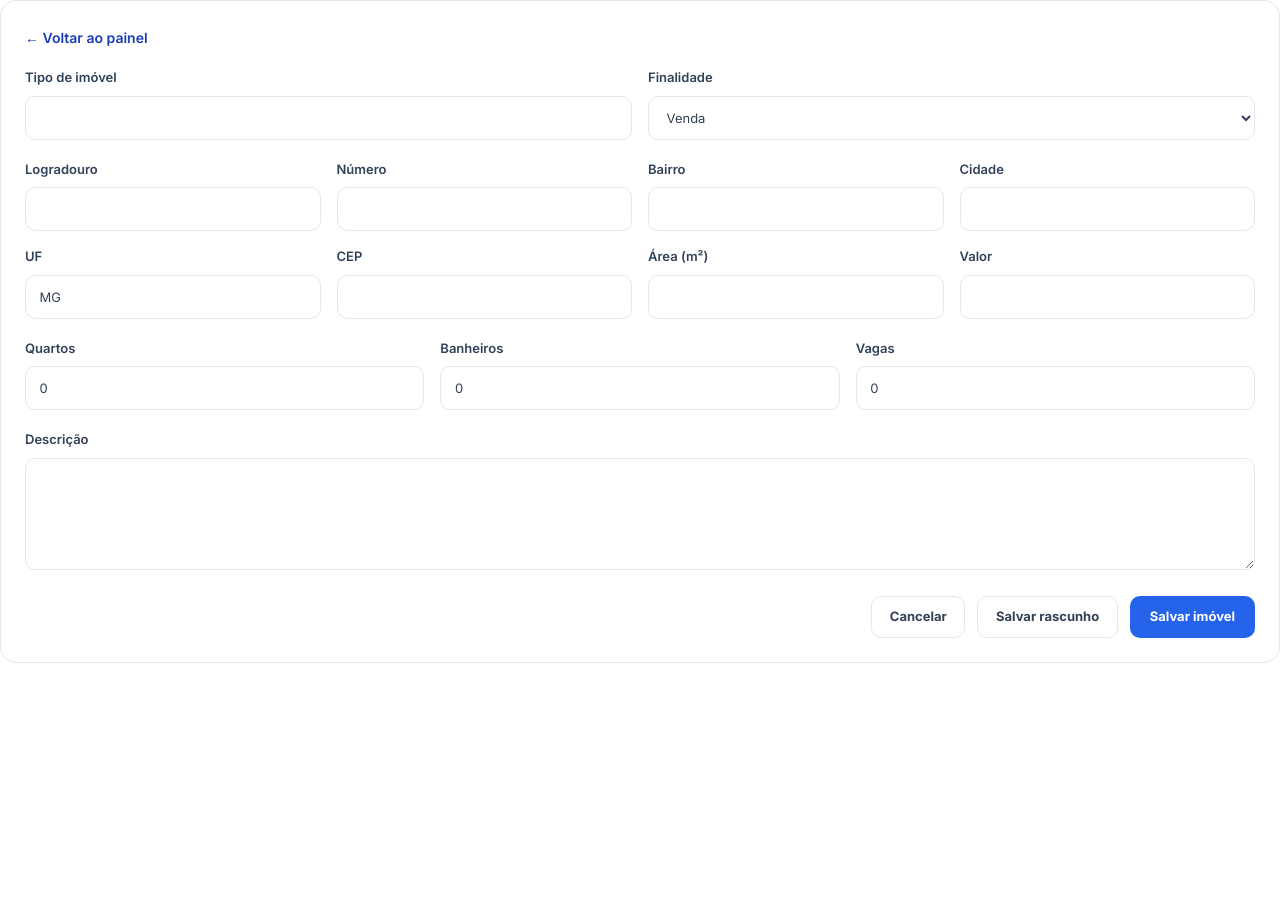
Scenario: regressões de navegação e proteção de formulário › navega após confirmar a saída e preserva o estado quando o salvamento falha
This screenshot has width=1280, height=900.
Later steps or results of the test are not shown.
Type "Apartamento" into the field labelled "Tipo de imóvel" at (328, 118), box [25,96,632,140]
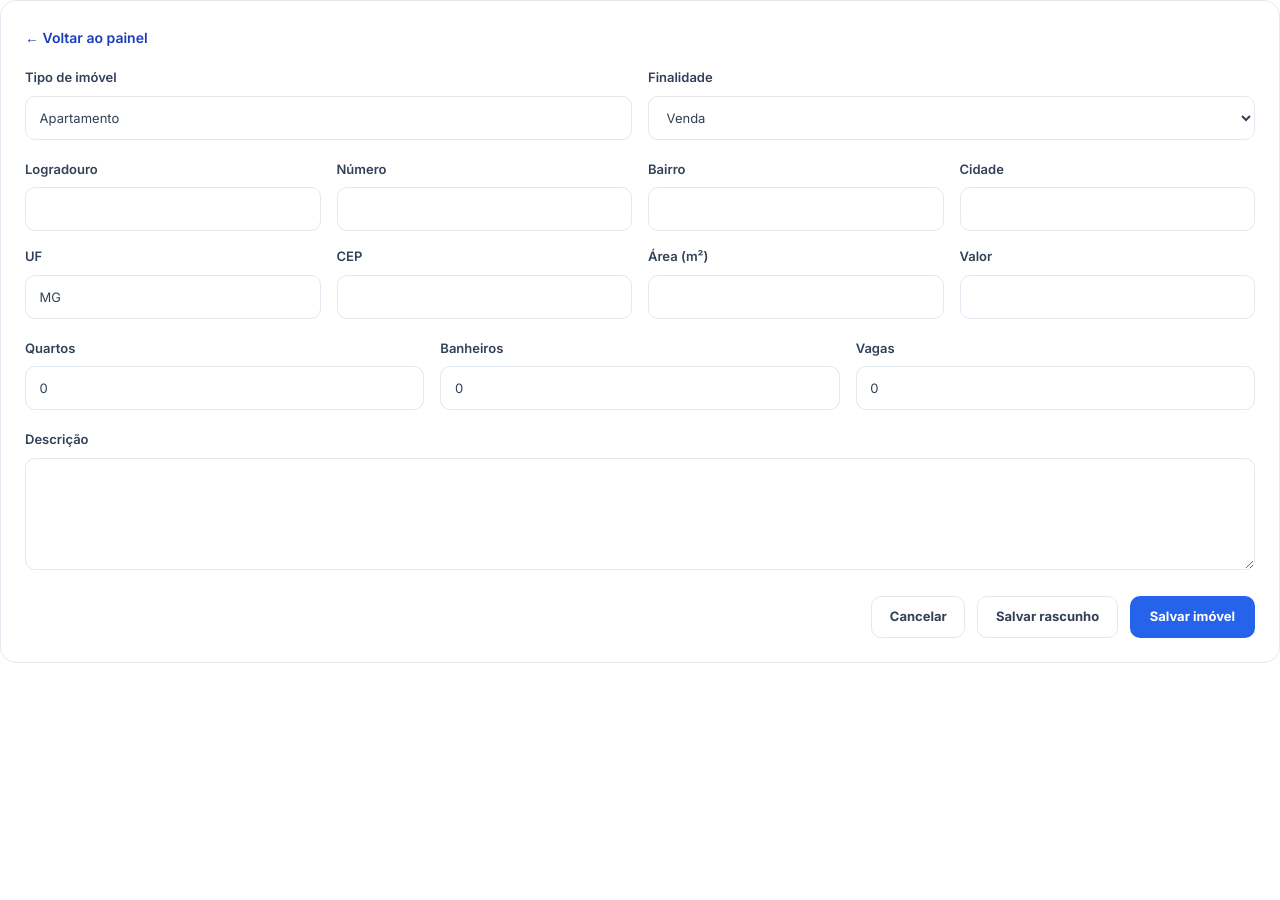
Click the button "Salvar rascunho" at (1048, 617), box [977,596,1118,638]
Click the button "← Voltar ao painel" at (86, 38), box [25,28,148,48]
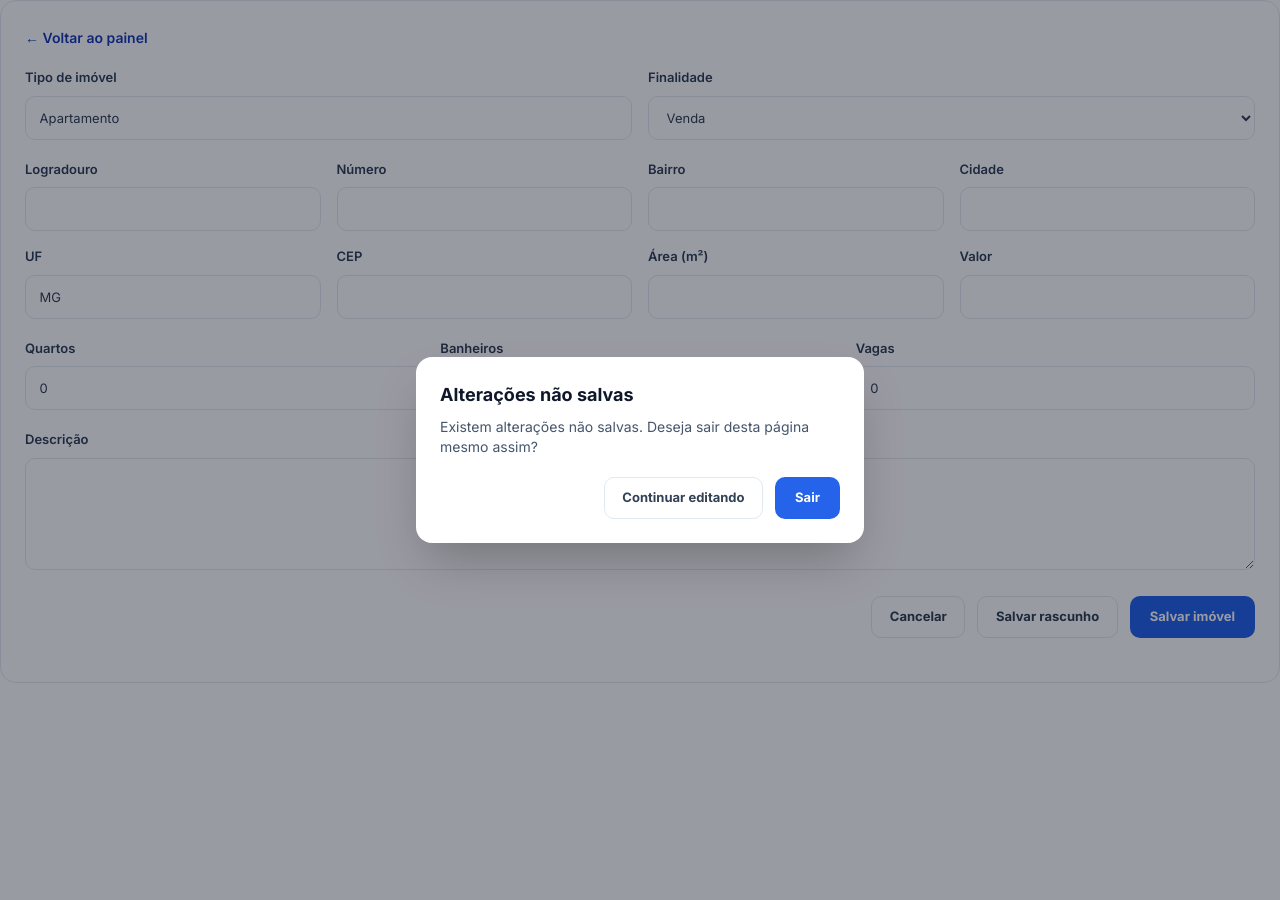
Expected: the dialog is shown
